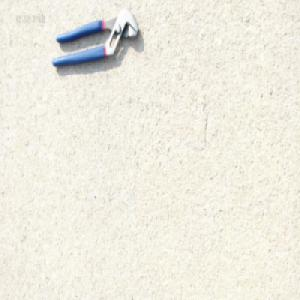Pliers: (50, 7, 139, 69)
